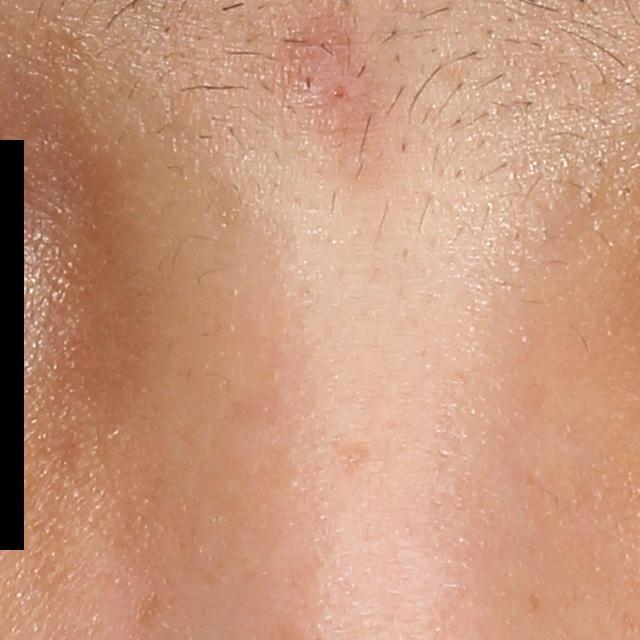melasma: (331, 436, 377, 484), (130, 586, 164, 629)
